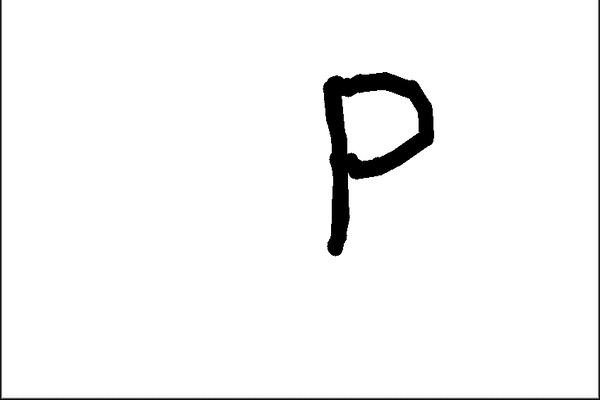P: (294, 61, 456, 272)
